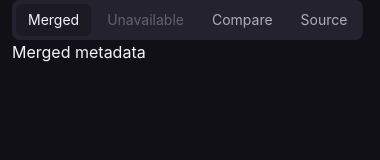
exposes one selected tab and its labelled panel with roving tab order
Click the tab "Compare" at (242,20), box [200,4,285,36]
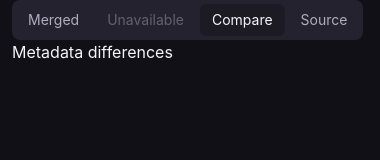
Expected: the panel named "Compare" is shown, [12,42,173,62]
